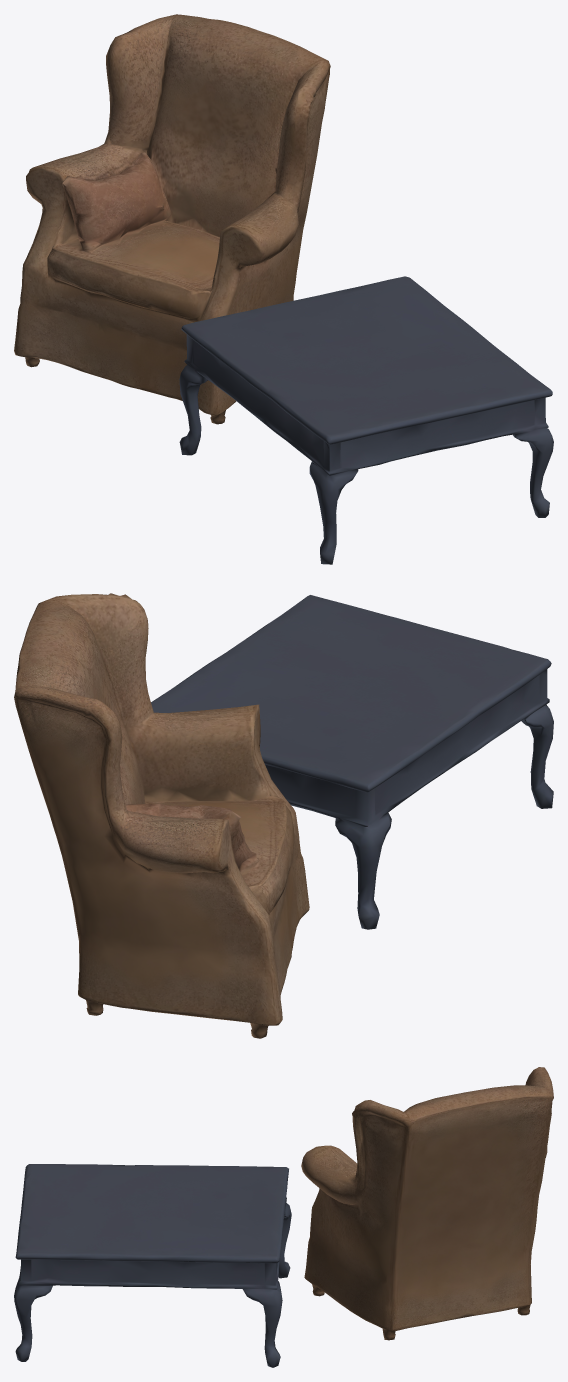
File: berjer-sehpa.glb
3 renders of one model, top to bottom at view 1: azimuth 30°, elevation 25°; view 2: azimuth 150°, elevation 25°; view 3: azimuth 270°, elevation 25°, orthographic. The views are drawn at different scales.
Visible parts, largest first — view 1: tripo_node_92c3003d-608a-4e19-a92f-b59608253f04; view 2: tripo_node_92c3003d-608a-4e19-a92f-b59608253f04; view 3: tripo_node_92c3003d-608a-4e19-a92f-b59608253f04.
Boxes of the visible parts, x1,y1,x2,y2 form: tripo_node_92c3003d-608a-4e19-a92f-b59608253f04: (14,14,553,564); tripo_node_92c3003d-608a-4e19-a92f-b59608253f04: (14,593,553,1038); tripo_node_92c3003d-608a-4e19-a92f-b59608253f04: (14,1067,553,1367).
Size of the model in its own units: 0.4909 by 0.5175 by 1.
Materials: 1 (1 with a texture image).
